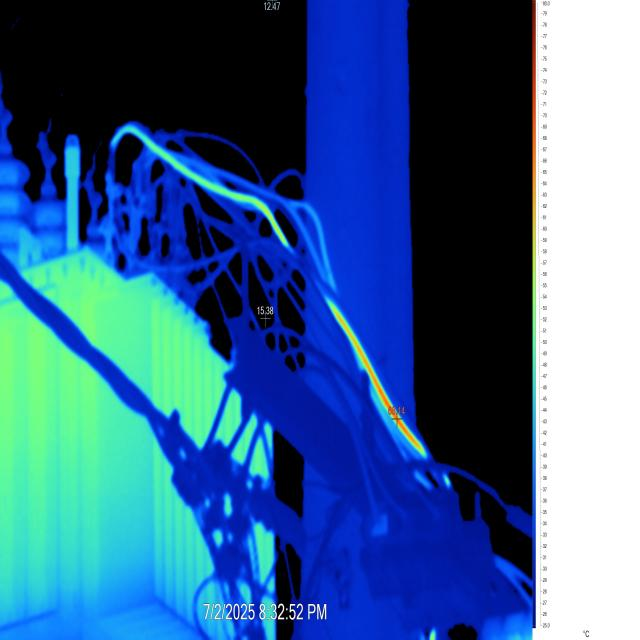Transformer: (4, 60, 532, 638)
